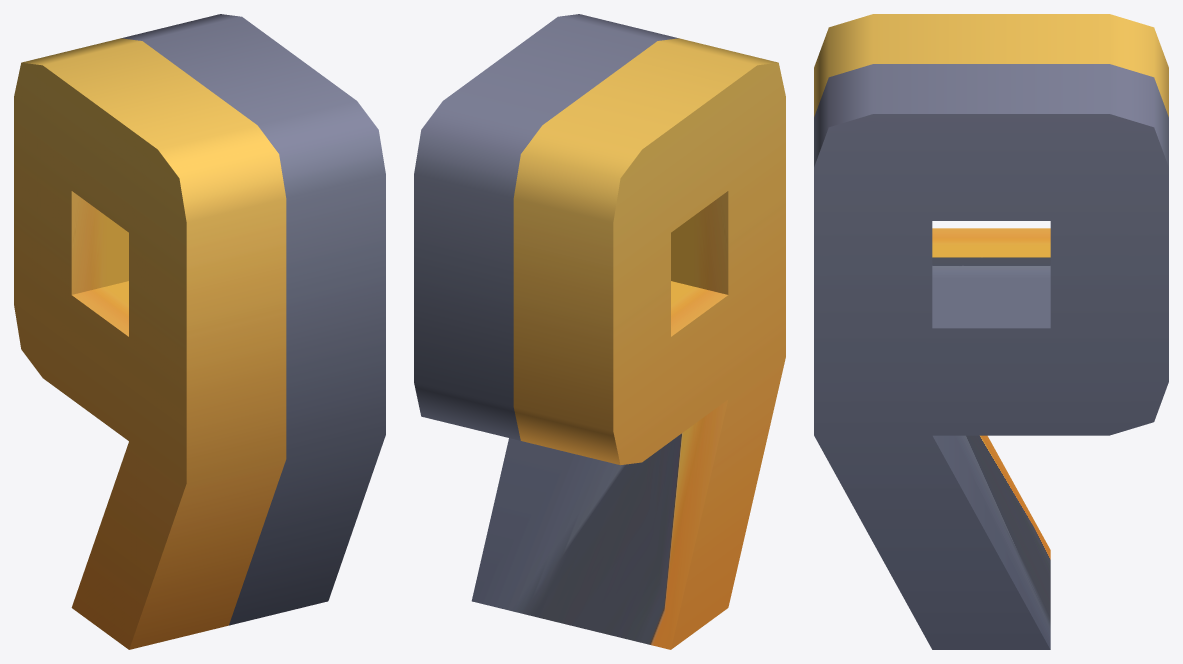
File: kenney-prototype-number-double-9.glb
3 views of the same model, side by side, from view 1: azimuth 30°, elevation 25°; view 2: azimuth 150°, elevation 25°; view 3: azimuth 270°, elevation 25° (orthographic). The views are drawn at different scales.
Visible parts, largest first — view 1: number-double-9; view 2: number-double-9; view 3: number-double-9.
Boxes of the visible parts, left/top/right/bottom form: number-double-9: left=14, top=14, right=385, bottom=649; number-double-9: left=414, top=14, right=785, bottom=649; number-double-9: left=814, top=14, right=1168, bottom=649.
Bounding box in the file's own units: 0.2 × 0.5 × 0.3.
Materials: 1 (1 with a texture image).
